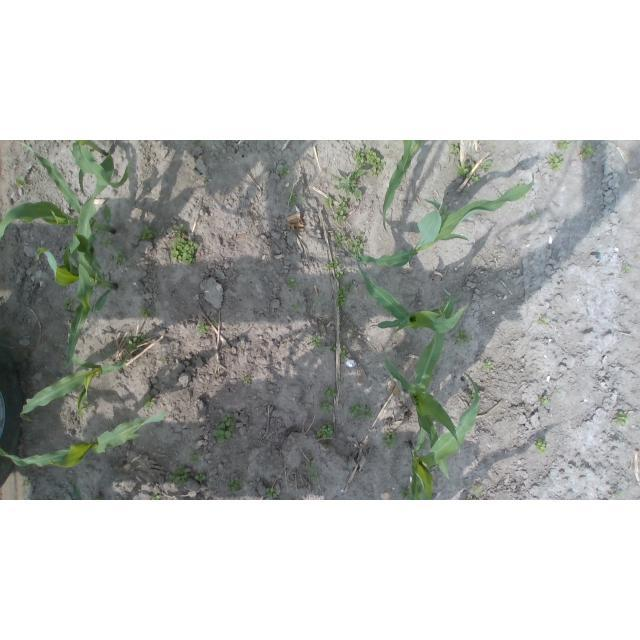Maize: (338, 174, 537, 267), (0, 140, 116, 269), (385, 288, 459, 481), (36, 232, 116, 369), (354, 250, 471, 334), (1, 414, 168, 470), (406, 372, 478, 501), (20, 351, 124, 421), (382, 141, 422, 240), (71, 140, 134, 197), (71, 470, 106, 500)
Weeds: (170, 224, 200, 265), (330, 169, 367, 200), (354, 146, 387, 179), (213, 412, 234, 444), (281, 187, 307, 206), (334, 198, 351, 226), (349, 402, 374, 421), (335, 281, 353, 307), (125, 331, 147, 352), (169, 466, 190, 487), (325, 257, 344, 280), (349, 233, 365, 257), (453, 327, 472, 346), (454, 161, 474, 179), (382, 430, 399, 451), (548, 153, 565, 173), (316, 421, 332, 440), (578, 142, 594, 160), (141, 225, 156, 242), (141, 394, 155, 412), (137, 307, 155, 321), (226, 477, 242, 492), (613, 412, 628, 427), (99, 235, 113, 250), (113, 251, 127, 266), (439, 204, 450, 223), (556, 140, 573, 152), (534, 438, 546, 455), (196, 321, 210, 335), (323, 386, 337, 400), (400, 485, 413, 500), (448, 141, 460, 157), (317, 400, 333, 412), (82, 399, 95, 413), (188, 451, 201, 465), (62, 297, 76, 310), (334, 233, 347, 247), (310, 335, 323, 349), (279, 165, 290, 180), (194, 471, 206, 484), (483, 359, 494, 373), (13, 177, 27, 188), (471, 484, 483, 496), (266, 487, 278, 499), (324, 192, 333, 208), (481, 160, 492, 173), (539, 395, 550, 407), (286, 277, 298, 288), (468, 389, 480, 399), (340, 345, 348, 359), (469, 173, 479, 184), (309, 472, 319, 483), (22, 479, 32, 489), (621, 264, 632, 273), (538, 317, 549, 326), (243, 375, 252, 386), (92, 492, 104, 500), (291, 303, 300, 313), (529, 212, 538, 221), (152, 492, 161, 500), (441, 294, 450, 302), (327, 344, 337, 351), (466, 494, 477, 500), (190, 140, 201, 146), (614, 490, 622, 498), (308, 462, 316, 470), (212, 318, 219, 327), (496, 191, 502, 198), (339, 377, 345, 384), (159, 358, 167, 363), (284, 496, 292, 500), (518, 181, 525, 185), (208, 406, 212, 413), (521, 196, 526, 201), (202, 179, 207, 184), (385, 145, 390, 150), (555, 390, 560, 394), (110, 497, 116, 500)
